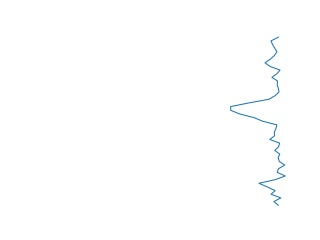interdistributaryEstuary: (227, 33, 290, 208)
